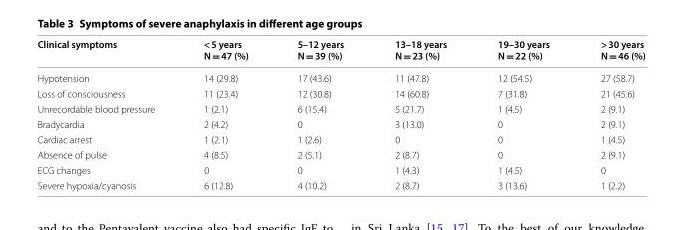table: (36, 37, 644, 190)
table column: (36, 37, 178, 190), (368, 37, 471, 190), (471, 37, 574, 190), (272, 37, 368, 190), (178, 37, 272, 190), (574, 37, 644, 190)
table column header: (36, 37, 644, 70)
table row: (36, 37, 644, 70), (36, 100, 644, 116), (36, 146, 644, 162), (36, 70, 644, 85), (36, 85, 644, 100), (36, 116, 644, 131), (36, 131, 644, 146), (36, 162, 644, 177), (36, 177, 644, 190)
